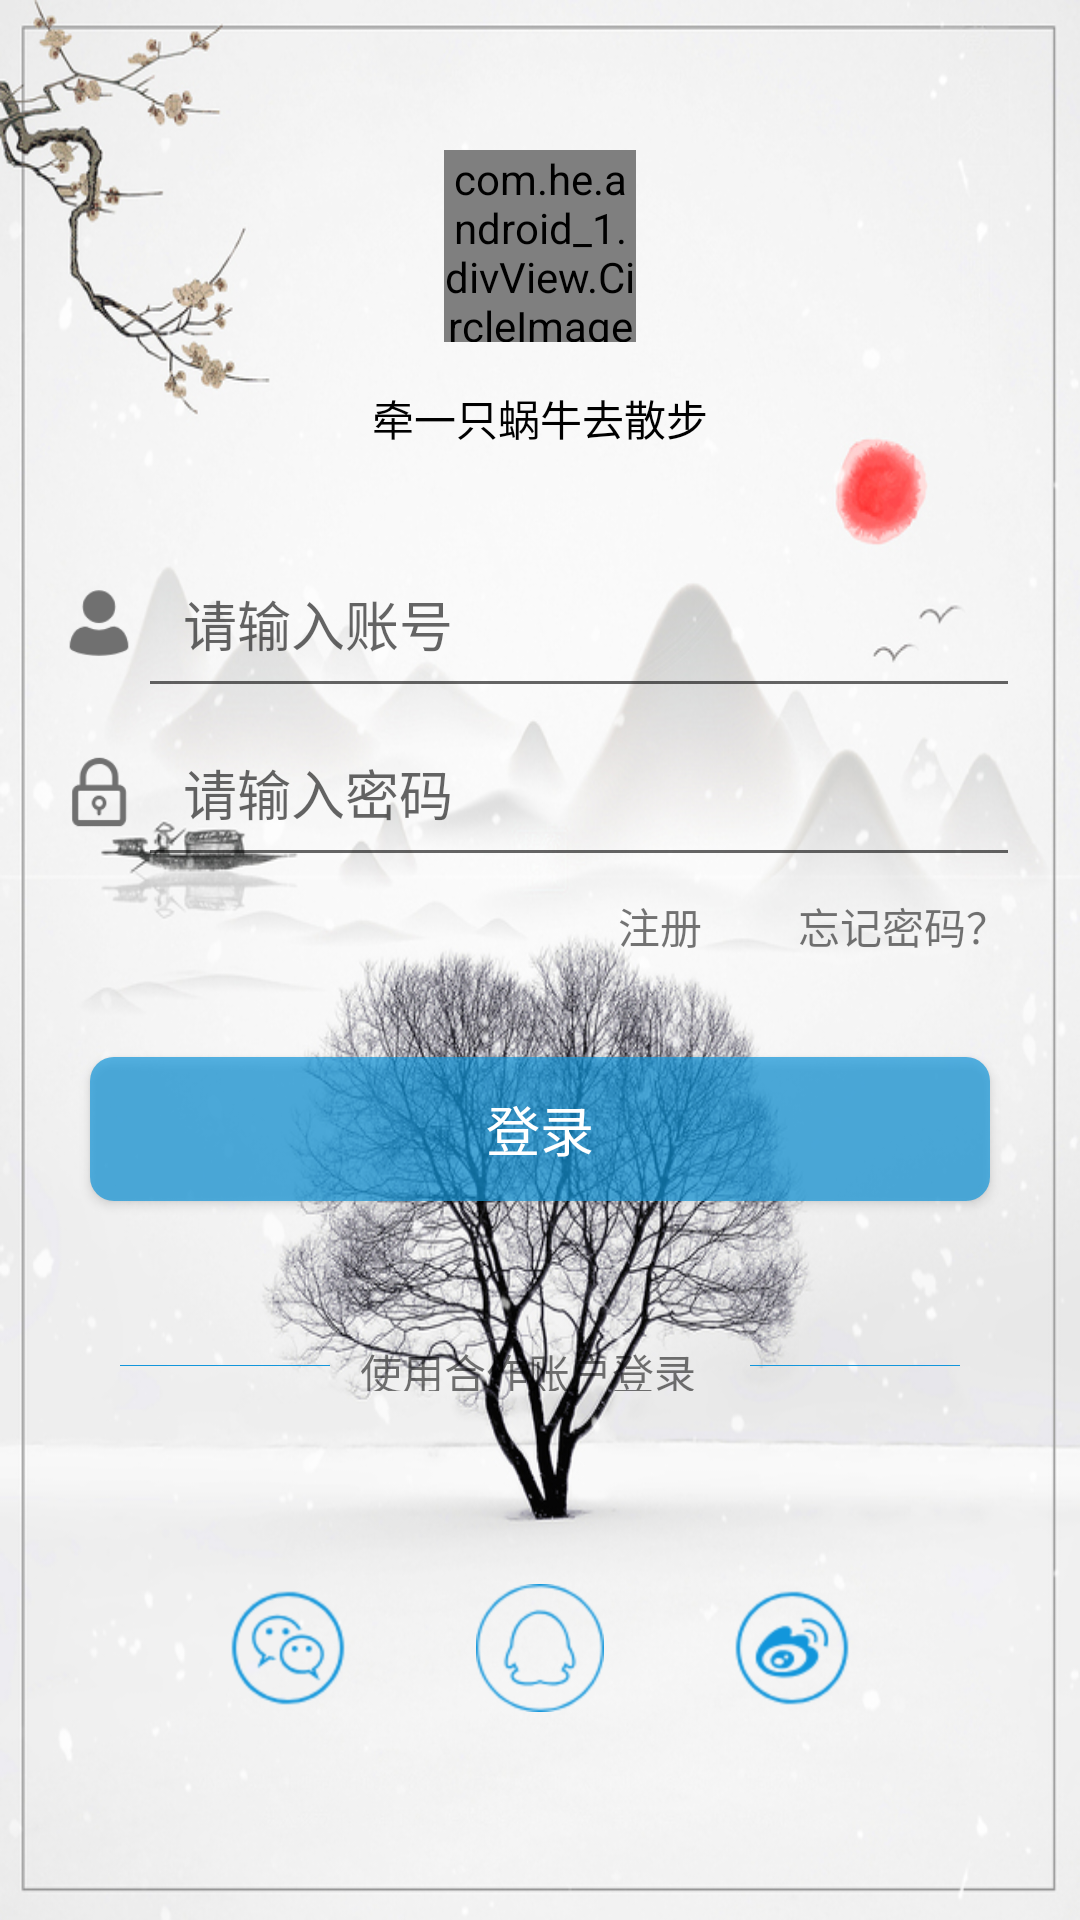

Screen size 1080px x 1920px. Icon name, then its center in pixels as point (x, y):
password: point (99, 792)
username: point (99, 623)
